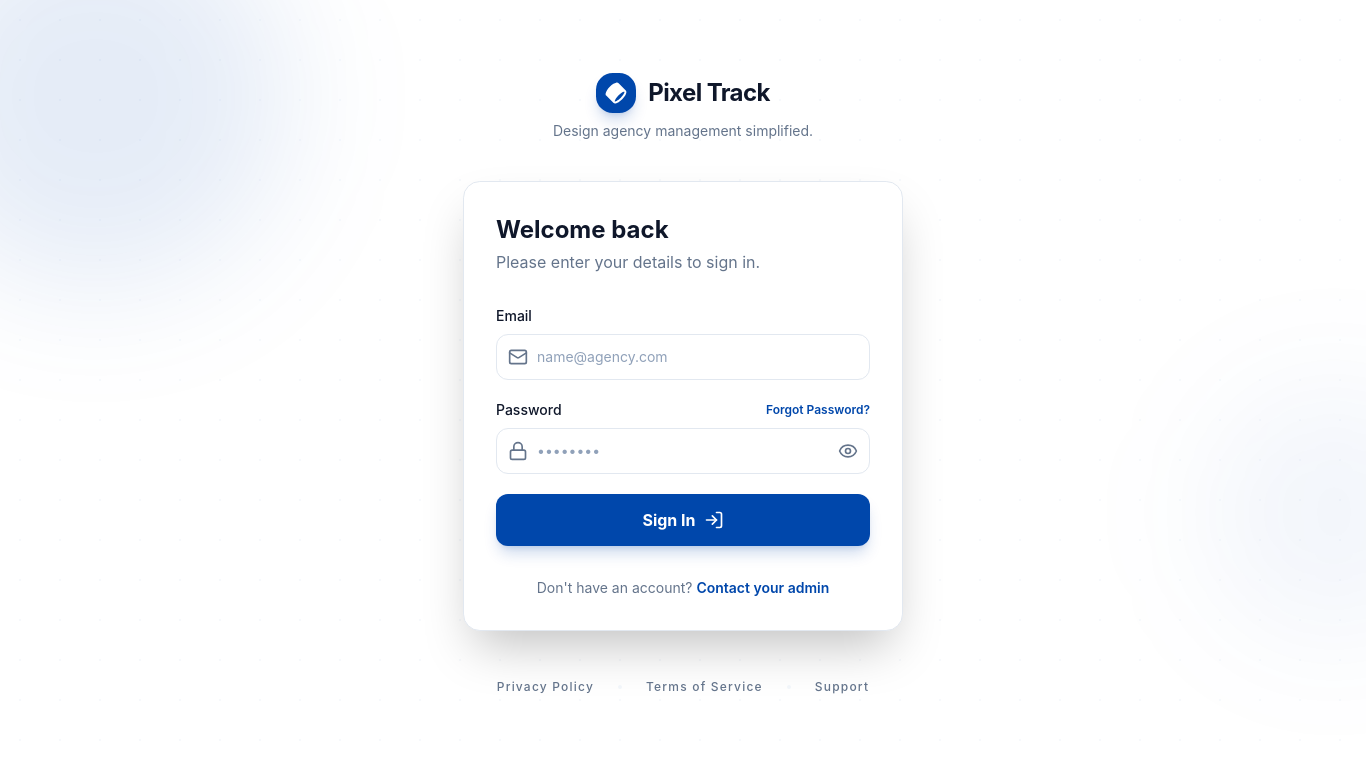
it: LoginPage › shows a password error when password is too short
Step 1. Type "test@test.com" into the field labelled "Email" → (683, 357), box [496, 334, 870, 380]
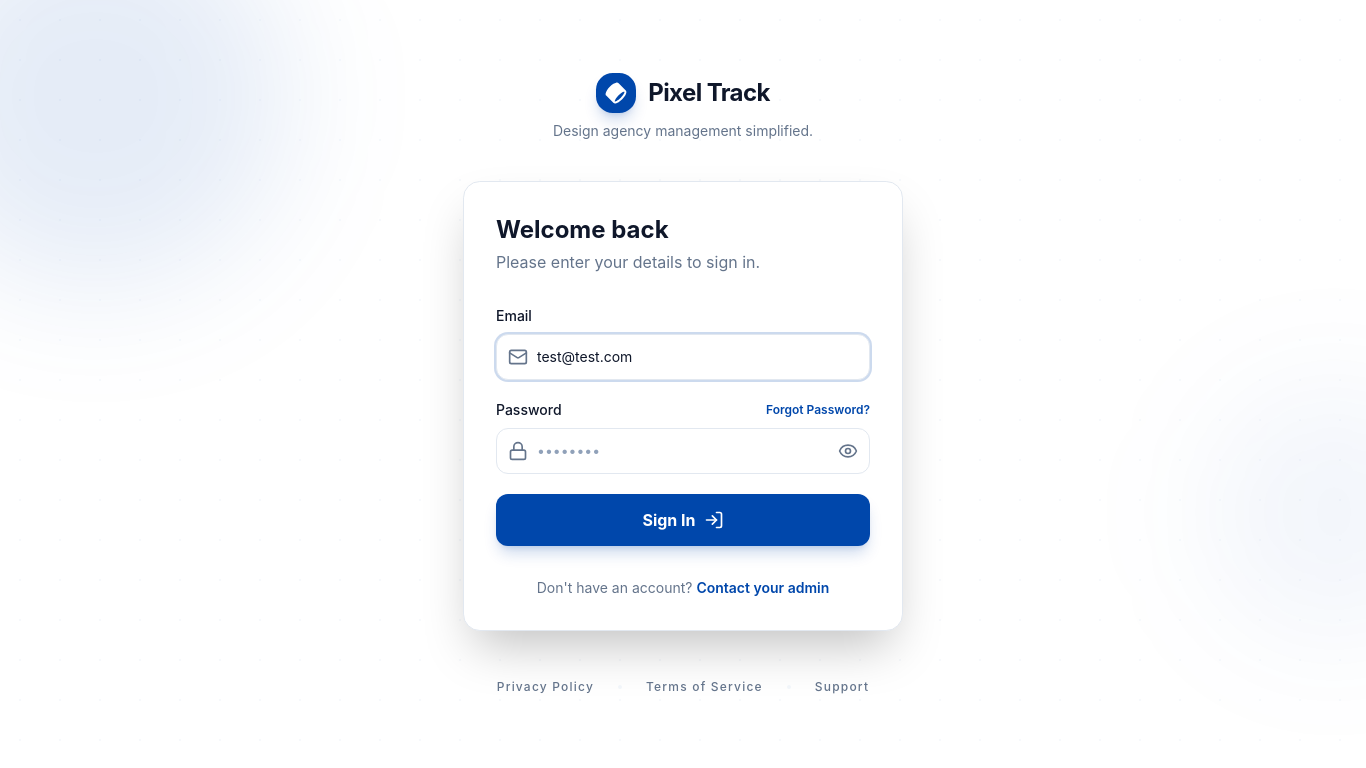
Step 2. Type "123" into the password field labelled "Password" → (683, 451), box [496, 428, 870, 474]
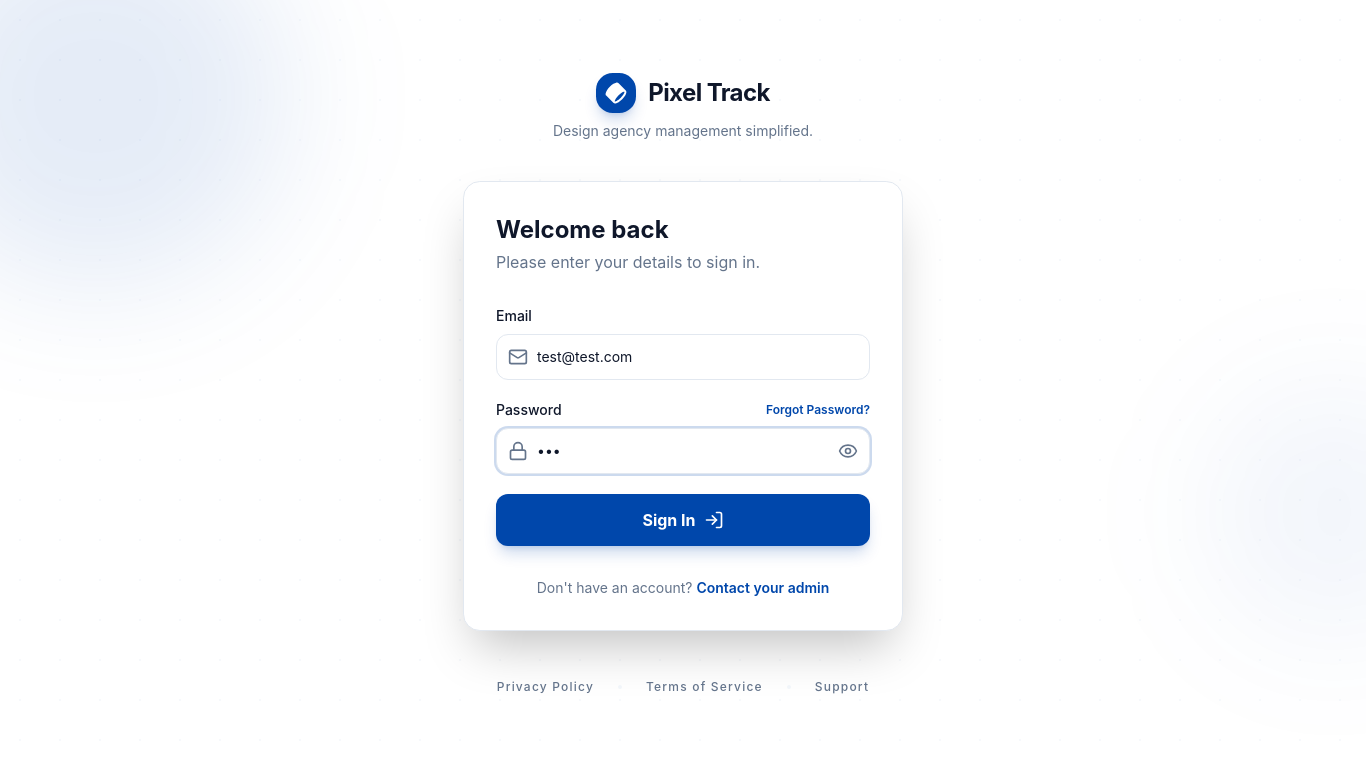
Step 3. Click the button "Sign In" → (683, 520), box [496, 494, 870, 546]
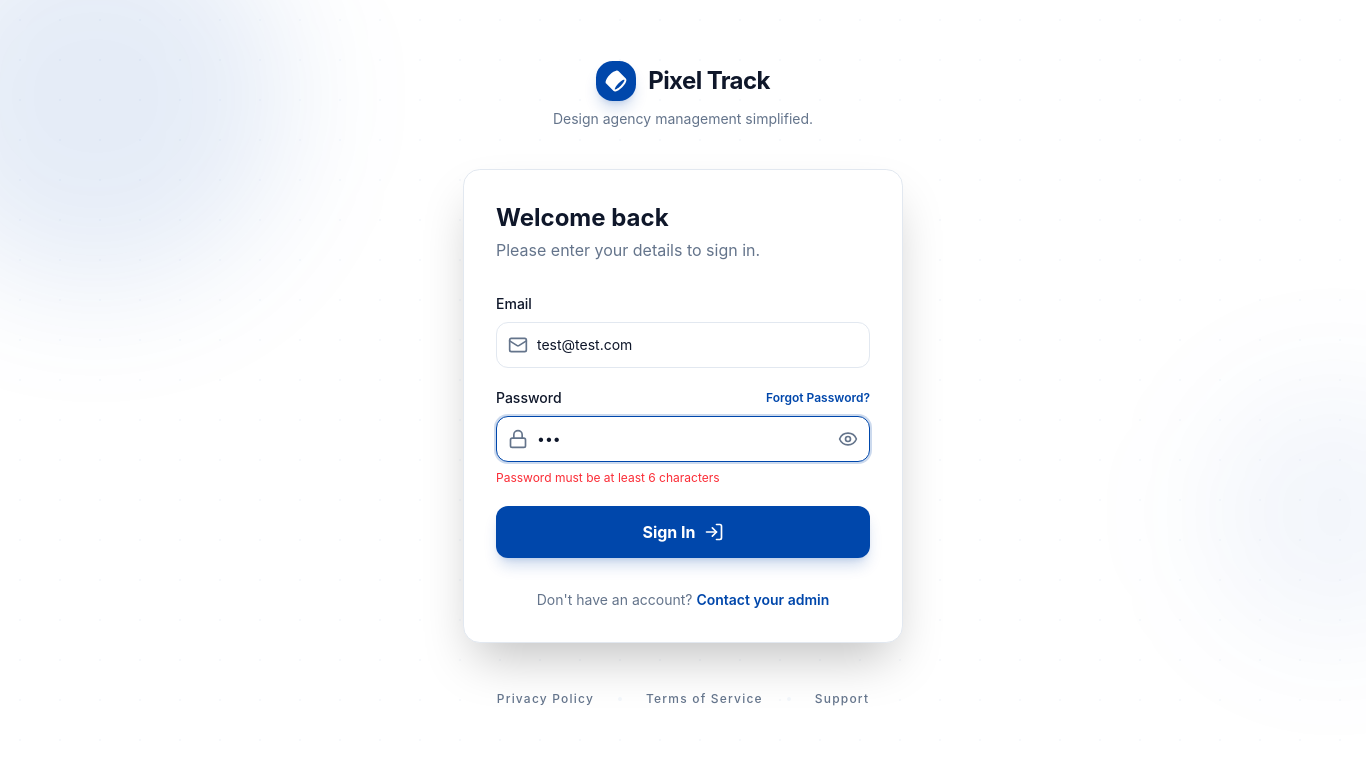
Result: the text "Password must be at least 6 characters" is shown at [496, 470, 720, 485]
